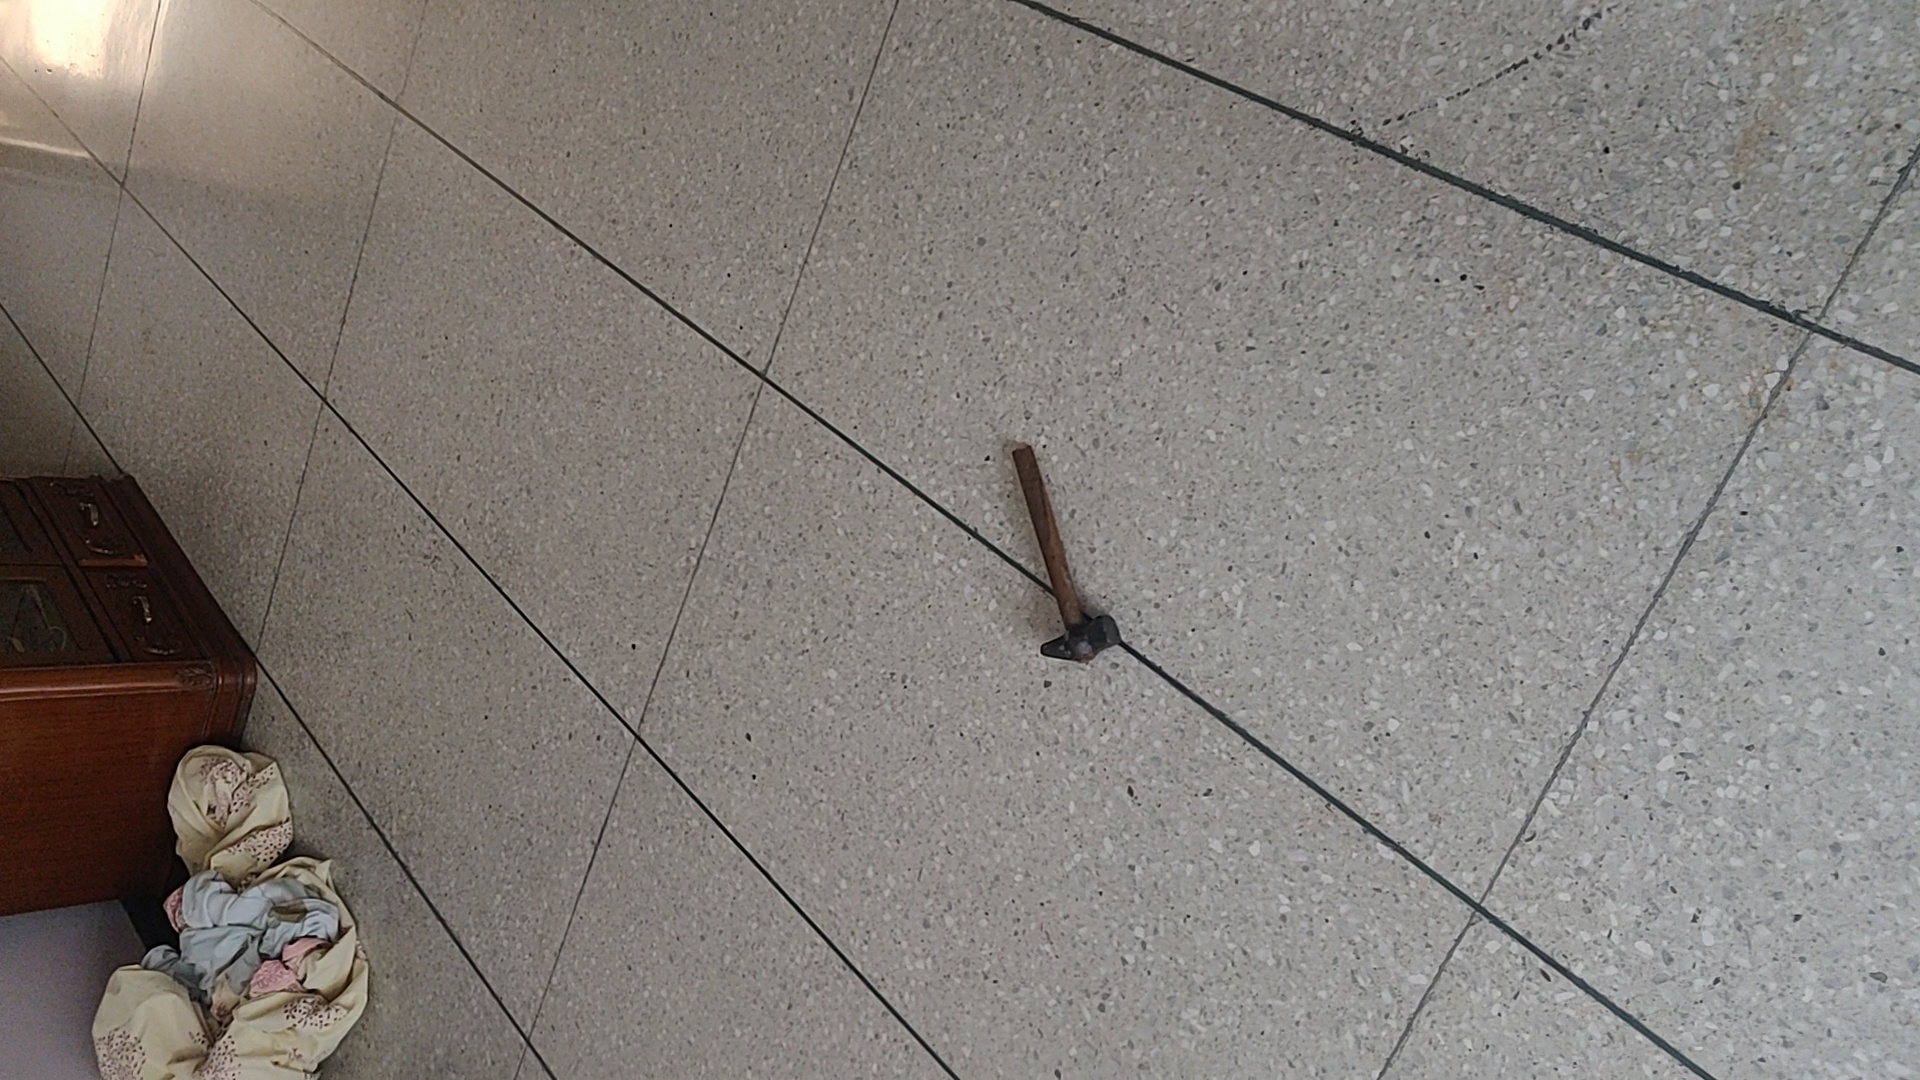hammer: (1004, 439, 1124, 669)
